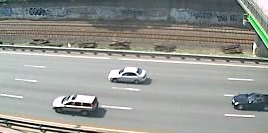car: (50, 92, 100, 117), (106, 64, 150, 86), (229, 90, 268, 114)
